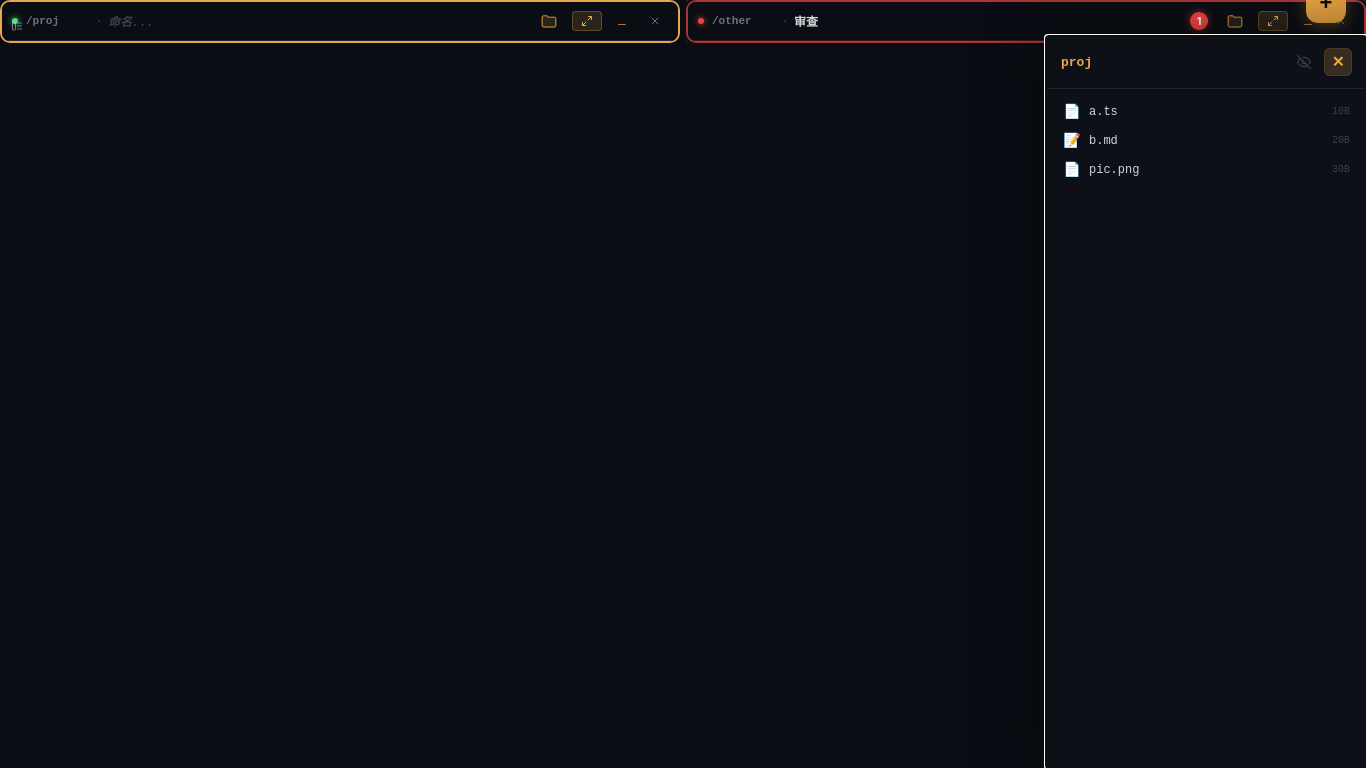
Scenario: file-tabs 终端状态灯组（§2.5） › ⑯ 点 t2 灯 → 洞 data-term-id=t2 + 终端 tab 活跃 + tab 名跟随 + 左栏头仍 owner；layoutReport rects 含 t2（key 重挂命门）
Step 1. Click the element showing "📄 a.ts 10B" → x=1072, y=112, box [1063,104,1350,120]
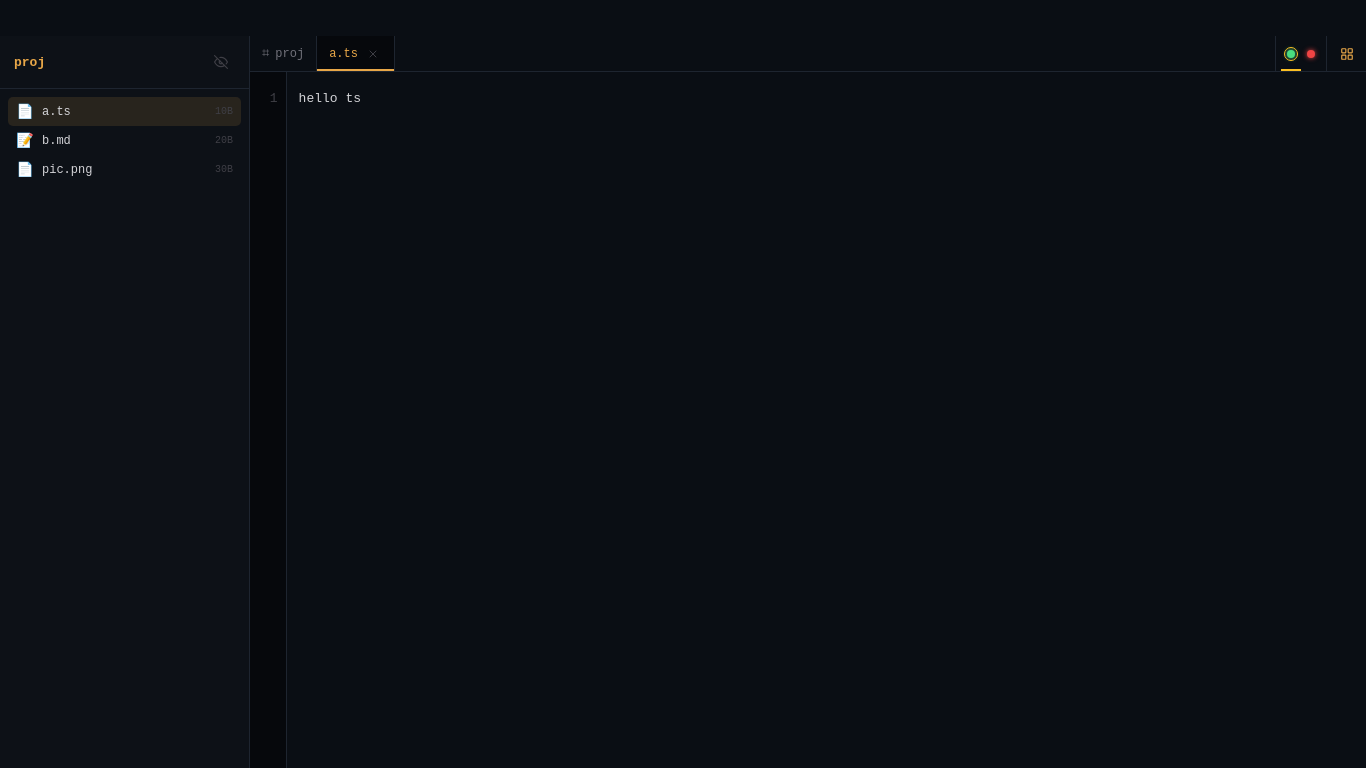
Step 2. Click the button named "审查 · 等待输入" → x=1311, y=54, box [1301,36,1321,71]
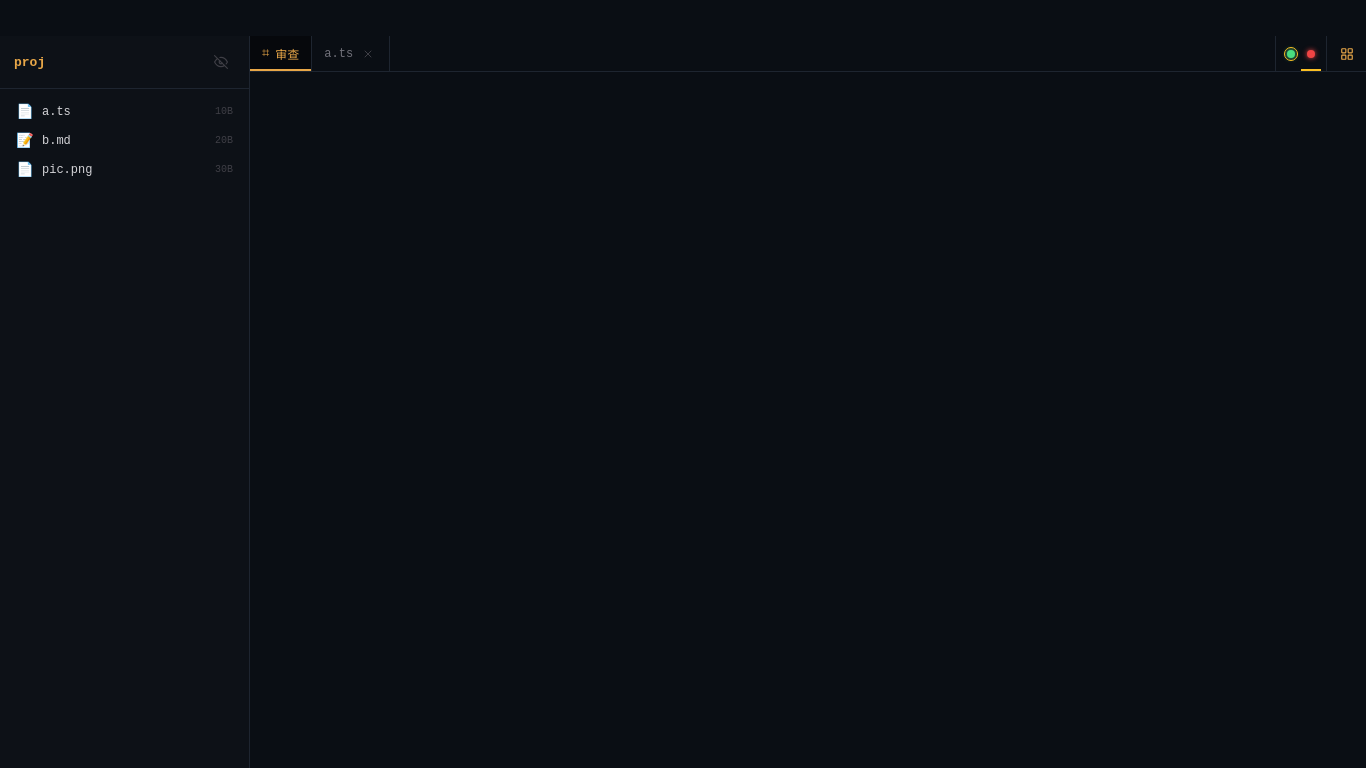
Expected: the text with class "file-tabs-view__left-title" reads "proj", [14,54,45,70]
Expected: the element with class "tile-term-hole" is shown
Expected: the text with class "file-tabs-view__tab-name" reads "审查", [275,48,299,62]
